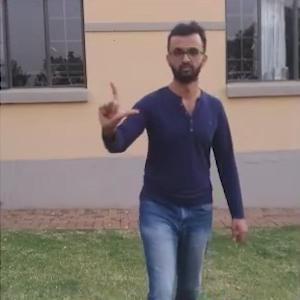land_hand: (96, 77, 148, 135)
